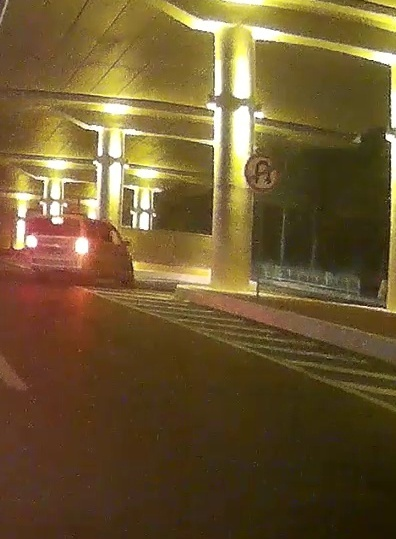L_light: (28, 236, 38, 248)
R_light: (75, 238, 86, 252)
T_light: (51, 217, 63, 224)
night-brake: (28, 213, 88, 283)
